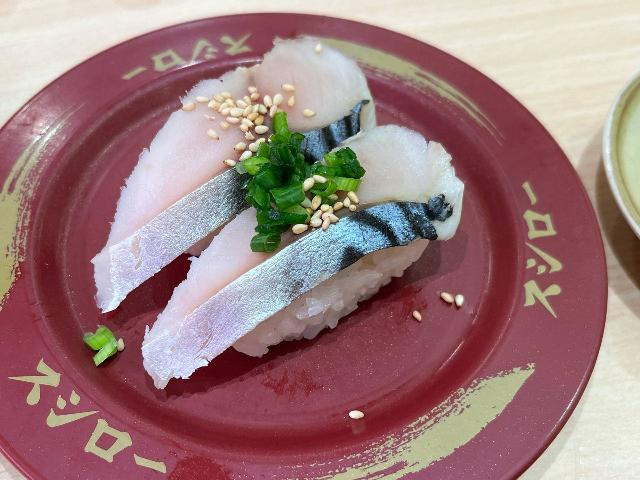janred: (3, 62, 585, 467)
